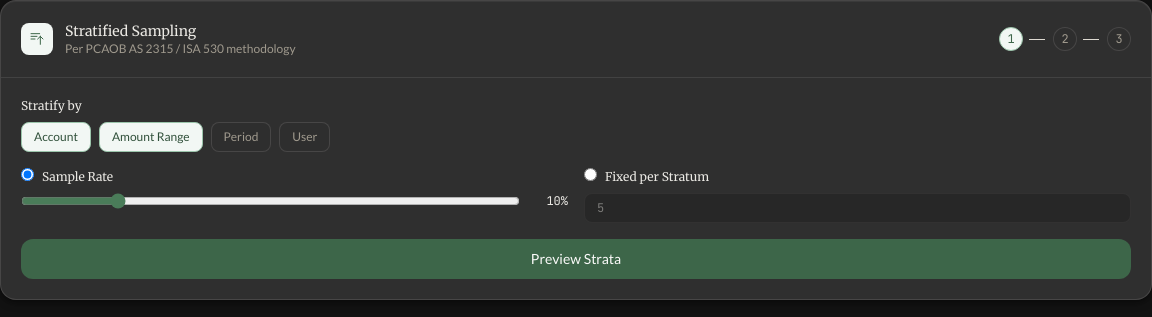
Test case: SamplingPanel › disables Preview Strata button when no criteria selected
# Deselect default criteria
Click the button "Account".
click(56, 137)  # box [21,122,91,152]
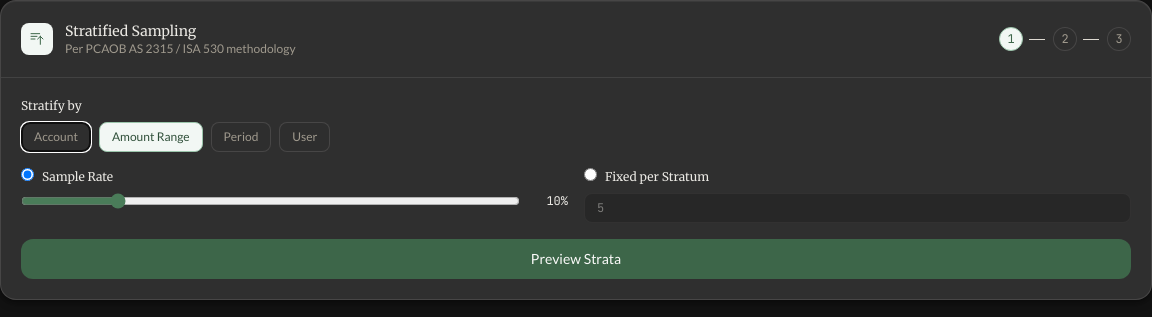
Click the button "Amount Range".
click(151, 137)  # box [99,122,203,152]
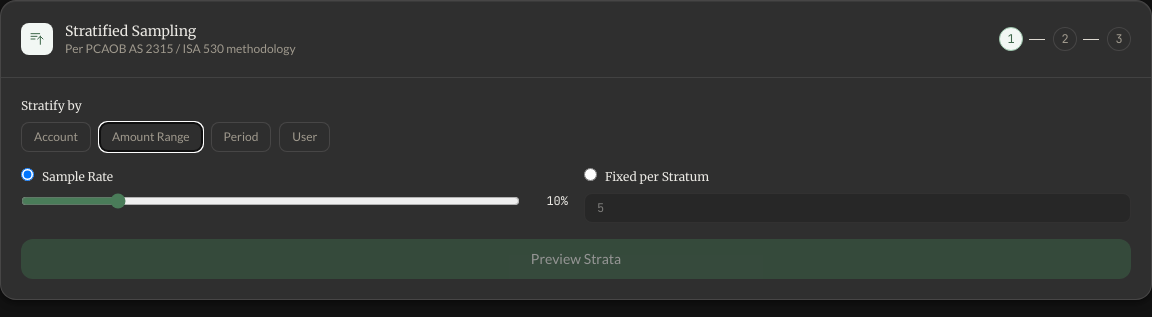
expect the button "Preview Strata" is disabled: met, box [21,239,1131,279]
